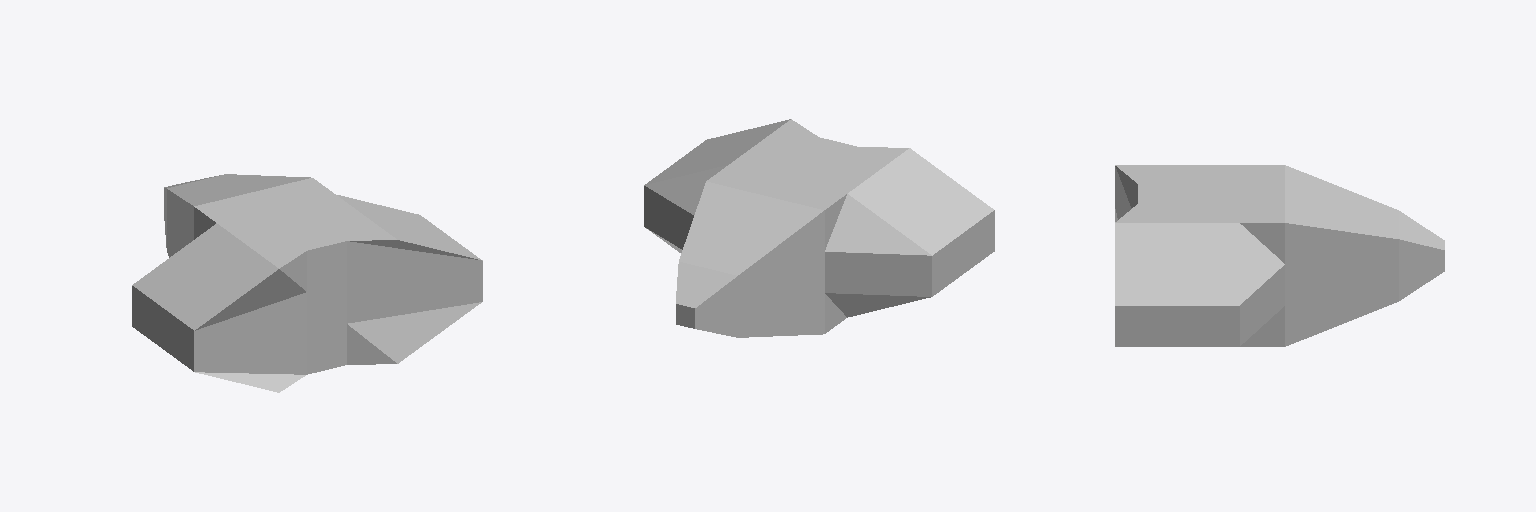
The model's file is H-Fighter.obj.
3 views of the same model, side by side, from view 1: azimuth 30°, elevation 25°; view 2: azimuth 150°, elevation 25°; view 3: azimuth 270°, elevation 25° (orthographic).
Parts seen in each view (by area): view 1: Cube; view 2: Cube; view 3: Cube.
Boxes of the visible parts, x1=… form: Cube: x1=132, y1=174, x2=482, y2=392; Cube: x1=644, y1=119, x2=994, y2=337; Cube: x1=1115, y1=165, x2=1444, y2=346.
Bounding box in the file's own units: 1.22 × 0.5 × 1.21.